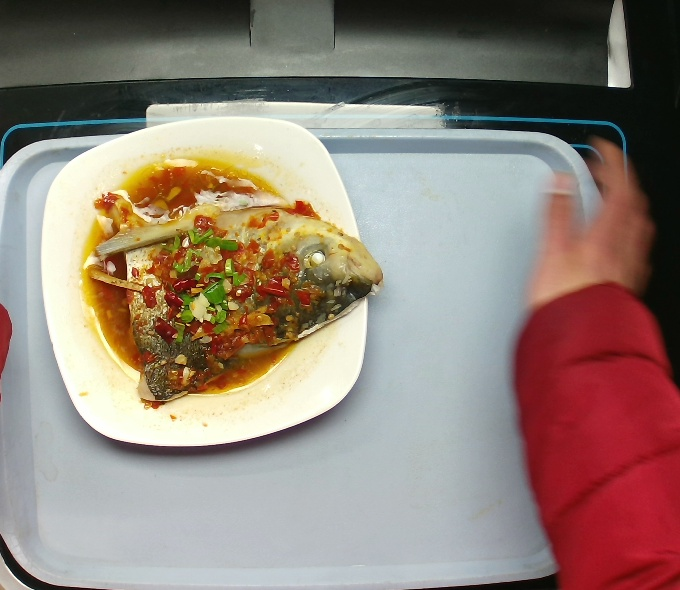wcq-DuoJiaoYuTou: (83, 177, 387, 413)
